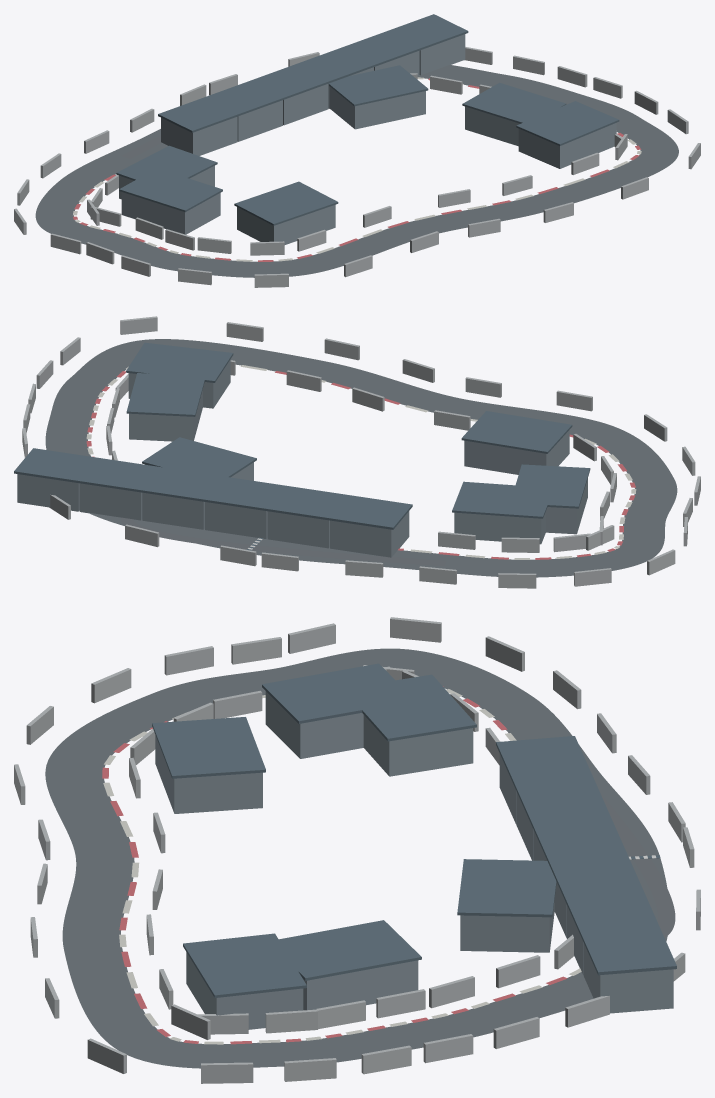
3 views of the same model, one above another, from view 1: azimuth 30°, elevation 25°; view 2: azimuth 150°, elevation 25°; view 3: azimuth 270°, elevation 25° (orthographic). The views are drawn at different scales.
Parts seen in each view (by area): view 1: asphalt, grandstand_roof_3, grandstand_roof_0, grandstand_roof_1, grandstand_roof_2, grandstand_roof_5, grandstand_4, grandstand_0, grandstand_2, grandstand_3, grandstand_roof_4, pit_building_0 (+24 smaller); view 2: asphalt, grandstand_roof_3, grandstand_roof_1, grandstand_roof_5, grandstand_roof_2, grandstand_roof_0, grandstand_roof_4, grandstand_3, pit_building_0, grandstand_5, pit_roof_0, pit_roof_5 (+34 smaller); view 3: asphalt, grandstand_roof_1, grandstand_roof_3, grandstand_roof_4, grandstand_roof_2, grandstand_roof_0, grandstand_roof_5, grandstand_5, grandstand_3, grandstand_1, grandstand_4, pit_roof_5 (+30 smaller).
Boxes of the visible parts, left/top/right/bottom form: asphalt: left=35, top=65, right=678, bottom=277; grandstand_roof_3: left=234, top=181, right=338, bottom=225; grandstand_roof_0: left=328, top=65, right=428, bottom=106; grandstand_roof_1: left=462, top=82, right=566, bottom=124; grandstand_roof_2: left=516, top=101, right=619, bottom=145; grandstand_roof_5: left=116, top=145, right=217, bottom=189; grandstand_4: left=121, top=192, right=220, bottom=234; grandstand_0: left=330, top=87, right=425, bottom=129; grandstand_2: left=518, top=123, right=616, bottom=168; grandstand_3: left=237, top=205, right=335, bottom=244; grandstand_roof_4: left=119, top=171, right=222, bottom=212; pit_building_0: left=161, top=116, right=237, bottom=155; asphalt: left=45, top=339, right=677, bottom=577; grandstand_roof_3: left=461, top=411, right=572, bottom=453; grandstand_roof_1: left=126, top=373, right=205, bottom=416; grandstand_roof_5: left=452, top=481, right=553, bottom=518; grandstand_roof_2: left=126, top=342, right=233, bottom=382; grandstand_roof_0: left=142, top=437, right=256, bottom=477; grandstand_roof_4: left=510, top=464, right=590, bottom=508; grandstand_3: left=464, top=430, right=569, bottom=474; pit_building_0: left=330, top=511, right=409, bottom=557; grandstand_5: left=454, top=512, right=545, bottom=544; pit_roof_0: left=327, top=495, right=412, bottom=529; pit_roof_5: left=14, top=448, right=99, bottom=482; asphalt: left=45, top=648, right=667, bottom=1068; grandstand_roof_1: left=268, top=920, right=421, bottom=980; grandstand_roof_3: left=152, top=717, right=265, bottom=778; grandstand_roof_4: left=262, top=663, right=415, bottom=723; grandstand_roof_2: left=183, top=933, right=306, bottom=997; grandstand_roof_0: left=457, top=859, right=556, bottom=917; grandstand_roof_5: left=347, top=674, right=476, bottom=741; grandstand_5: left=363, top=715, right=473, bottom=776; grandstand_3: left=155, top=735, right=262, bottom=813; grandstand_1: left=302, top=960, right=418, bottom=1010; grandstand_4: left=265, top=691, right=363, bottom=758; pit_roof_5: left=580, top=925, right=676, bottom=975.
Bounding box in the file's own units: 56.84 × 2.64 × 36.83.
